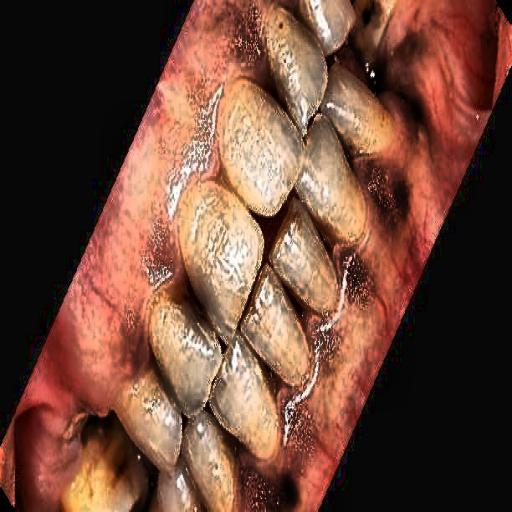Calculus: (334, 78, 428, 256), (38, 394, 150, 512)
